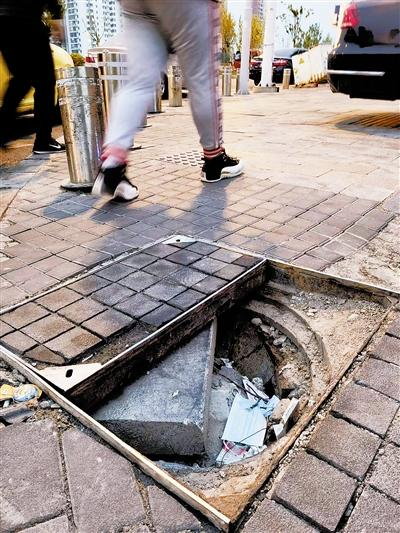lose: (9, 232, 392, 522)
